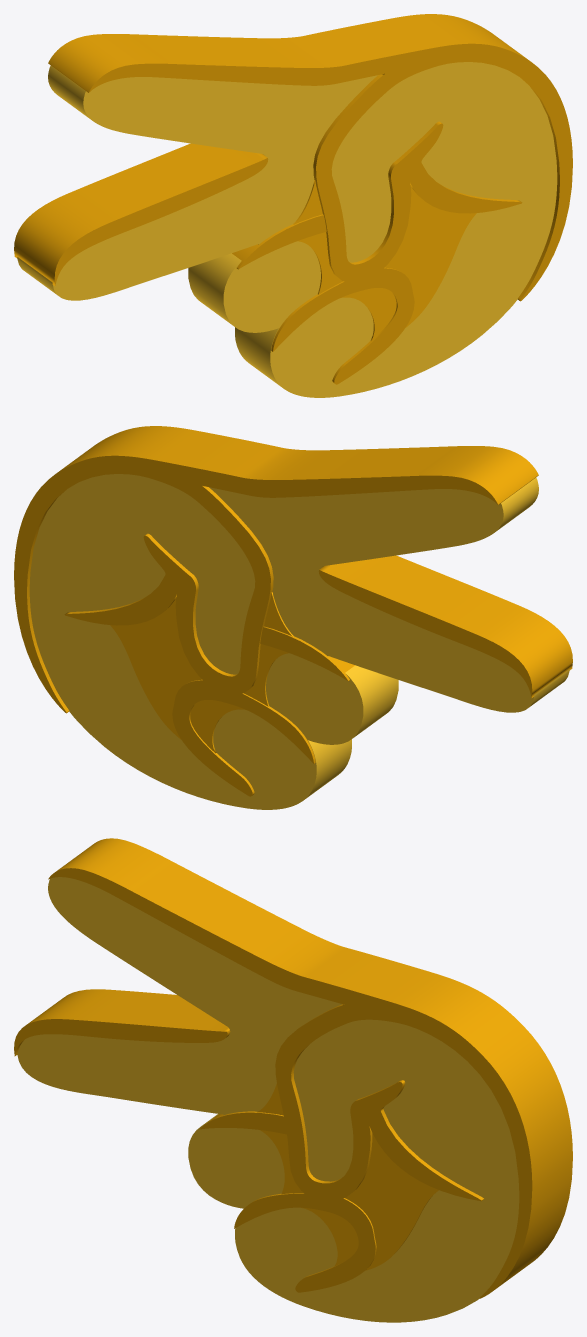
The model's file is scissors.glb.
3 renders of one model, top to bottom at view 1: azimuth 30°, elevation 25°; view 2: azimuth 150°, elevation 25°; view 3: azimuth 330°, elevation 25°, orthographic.
Parts seen in each view (by area): view 1: path1, path7, path6, path3, path5, path4; view 2: path1, path7, path6, path3, path5, path4; view 3: path1, path7, path6, path3, path5, path4.
Part boxes in pixels (<box>): path1: <box>17,62,557,397</box>; path7: <box>48,14,572,301</box>; path6: <box>14,143,268,285</box>; path3: <box>293,180,476,341</box>; path5: <box>271,267,414,384</box>; path4: <box>232,214,326,269</box>; path1: <box>29,474,569,809</box>; path7: <box>14,426,538,713</box>; path6: <box>318,555,572,697</box>; path3: <box>110,592,293,753</box>; path5: <box>172,679,315,796</box>; path4: <box>260,626,354,681</box>; path1: <box>17,877,519,1322</box>; path7: <box>48,838,572,1298</box>; path6: <box>14,989,230,1056</box>; path3: <box>257,1083,438,1270</box>; path5: <box>234,1193,376,1292</box>; path4: <box>200,1111,286,1134</box>.
Bounding box in the file's own units: 3.39 × 2.42 × 0.46.
